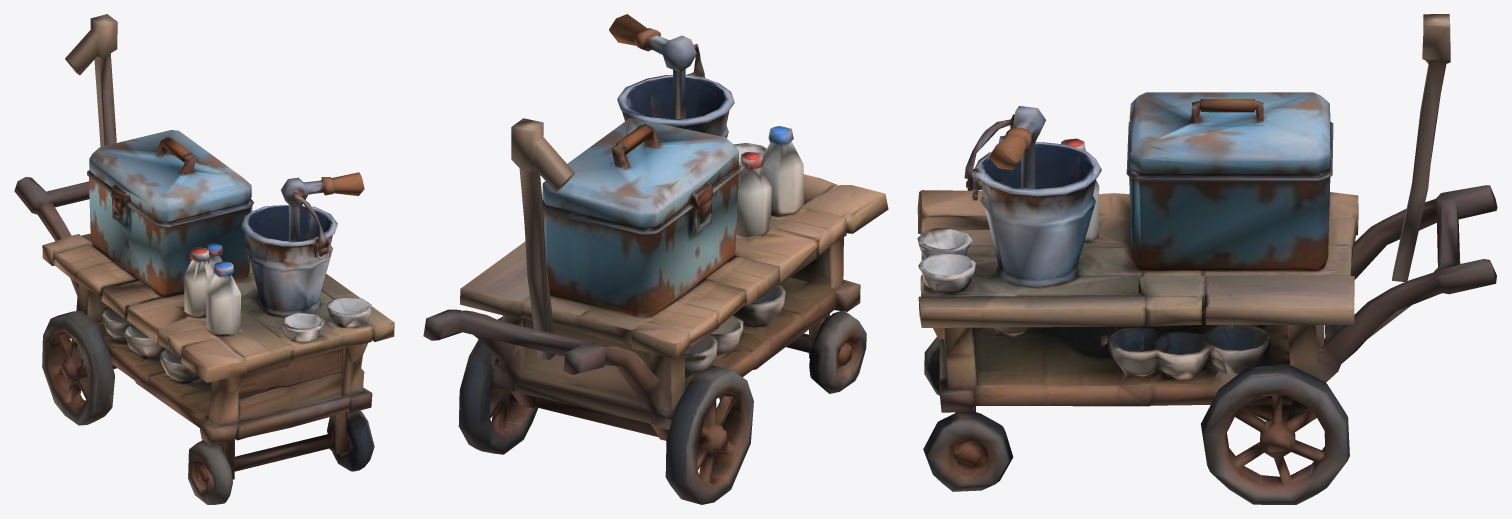
File: tianpinji-1.glb
3 renders of one model, left to right at view 1: azimuth 30°, elevation 25°; view 2: azimuth 150°, elevation 25°; view 3: azimuth 270°, elevation 25°, orthographic. The views are drawn at different scales.
Visible parts, largest first — view 1: node_0; view 2: node_0; view 3: node_0.
Boxes of the visible parts, x1,y1,x2,y2 form: node_0: (14,14,394,504); node_0: (423,14,888,504); node_0: (917,14,1497,504).
Bounding box in the file's own units: 0.4745 × 0.7701 × 0.9396.
Materials: 1 (1 with a texture image).
